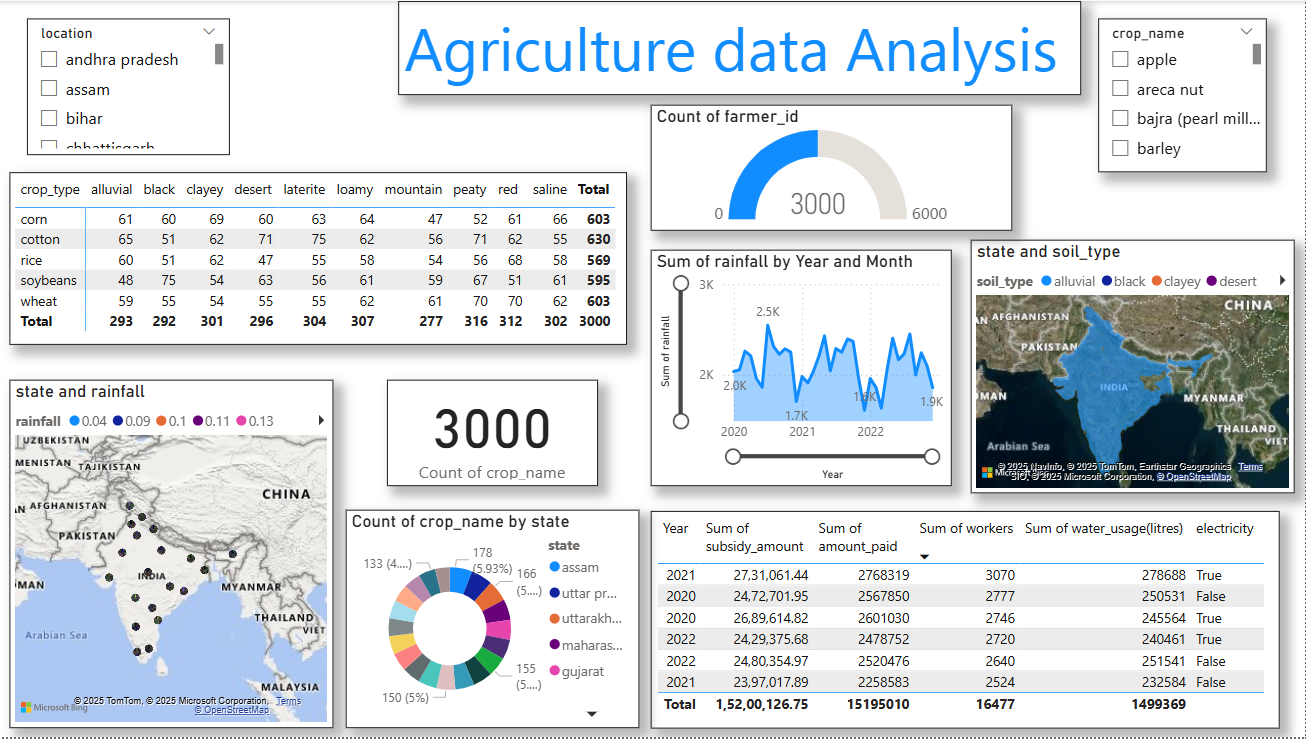

What the dashboard file says about the page in this screenshot:
{"tool":"powerbi","page":{"name":"A3","canvas":[1280,720],"ordinal":3},"visuals":[{"type":"textbox","box":[392.5,0,667.7,91.7],"z":0},{"type":"map","fields":{"Category":["Agriculture.location Hierarchy.state"],"Series":["Agriculture.rainfall"]},"box":[12.2,370.5,316.7,341.2],"z":1000},{"type":"filledMap","fields":{"Category":["Agriculture.location Hierarchy.state"],"Series":["Agriculture.soil_type"]},"box":[952.6,233.6,316.7,248.2],"z":2000},{"type":"tableEx","fields":{"Values":["Agriculture.disbursement_date.Variation.Date Hierarchy.Year","Sum(Agriculture.subsidy_amount)","Sum(Agriculture.amount_paid)","Sum(Agriculture.workers)","Sum(Agriculture.water_usage(litres))","Agriculture.electricity"]},"box":[639.5,498.9,615.1,212.8],"z":3000},{"type":"pivotTable","fields":{"Rows":["Agriculture.crop_type"],"Columns":["Agriculture.soil_type"],"Values":["CountNonNull(Agriculture.crop_name)"]},"box":[12.2,167.5,604.1,168.8],"z":4000},{"type":"lineChart","fields":{"Category":["Agriculture.harvest_date.Variation.Date Hierarchy.Year","Agriculture.harvest_date.Variation.Date Hierarchy.Month"],"Y":["Sum(Agriculture.rainfall)"]},"box":[639.5,243.3,294.7,231.1],"z":5000},{"type":"slicer","fields":{"Values":["Agriculture.location"]},"box":[29.3,17.1,198.1,133.3],"z":6000},{"type":"donutChart","fields":{"Category":["Agriculture.location Hierarchy.state"],"Y":["CountNonNull(Agriculture.crop_name)"]},"box":[341.2,497.7,287.4,214],"z":7000},{"type":"card","fields":{"Values":["CountNonNull(Agriculture.crop_name)"]},"box":[381.5,370.5,206.7,103.9],"z":8000},{"type":"gauge","fields":{"Y":["CountNonNull(Agriculture.farmer_id)"]},"box":[639.5,101.5,353.4,123.5],"z":9000},{"type":"slicer","fields":{"Values":["Agriculture.crop_name"]},"box":[1077.3,17.1,165.1,150.4],"z":10000}]}

Visuals, with their boxes in screenshot pixels (x1, y1, x2, y2), scaled from the page's 1280x720 canvas onto the 1306x741 screenshot:
textbox: [x1=400, y1=0, x2=1082, y2=94]
map - Agriculture.location Hierarchy.state x Agriculture.rainfall: [x1=12, y1=381, x2=336, y2=732]
filledMap - Agriculture.location Hierarchy.state x Agriculture.soil_type: [x1=972, y1=240, x2=1295, y2=496]
tableEx - Agriculture.disbursement_date.Variation.Date Hierarchy.Year x Sum(Agriculture.subsidy_amount): [x1=652, y1=513, x2=1280, y2=732]
pivotTable - Agriculture.crop_type x Agriculture.soil_type: [x1=12, y1=172, x2=629, y2=346]
lineChart - Agriculture.harvest_date.Variation.Date Hierarchy.Year x Agriculture.harvest_date.Variation.Date Hierarchy.Month: [x1=652, y1=250, x2=953, y2=488]
slicer - Agriculture.location: [x1=30, y1=18, x2=232, y2=155]
donutChart - Agriculture.location Hierarchy.state x CountNonNull(Agriculture.crop_name): [x1=348, y1=512, x2=641, y2=732]
card - CountNonNull(Agriculture.crop_name): [x1=389, y1=381, x2=600, y2=488]
gauge - CountNonNull(Agriculture.farmer_id): [x1=652, y1=104, x2=1013, y2=232]
slicer - Agriculture.crop_name: [x1=1099, y1=18, x2=1268, y2=172]
